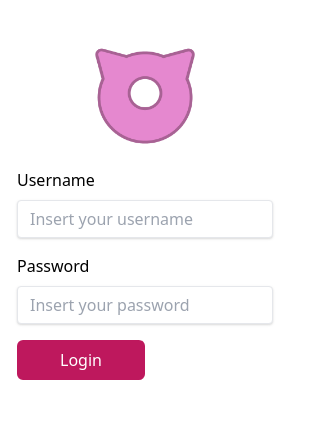
Scenario: Tests of Login page › Should show error if data is not valid
The image size is (320, 430).
Type "wrong-user" into the field labelled "Username" at (145, 219), box 17,200 -> 273,238
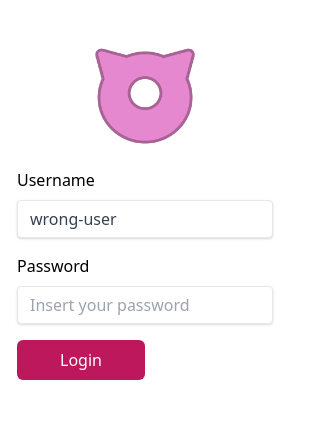
Type "wrong-password" into the field labelled "Password" at (145, 305), box 17,286 -> 273,324
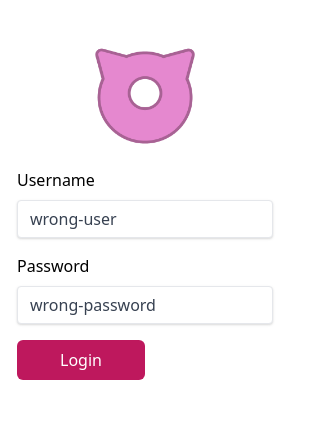
Click the button "Login" at (81, 360), box 17,340 -> 145,380
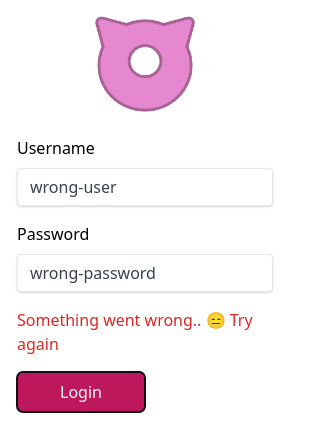
expect the message shows "wrong": met, box 17,309 -> 253,355
